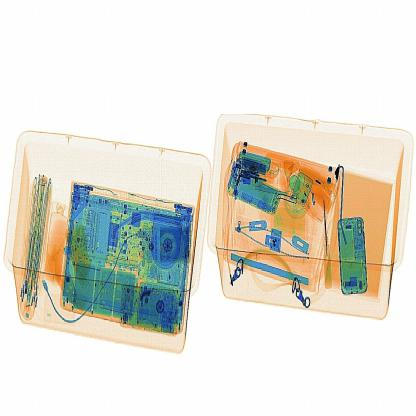wrench: (319, 194, 336, 290)
